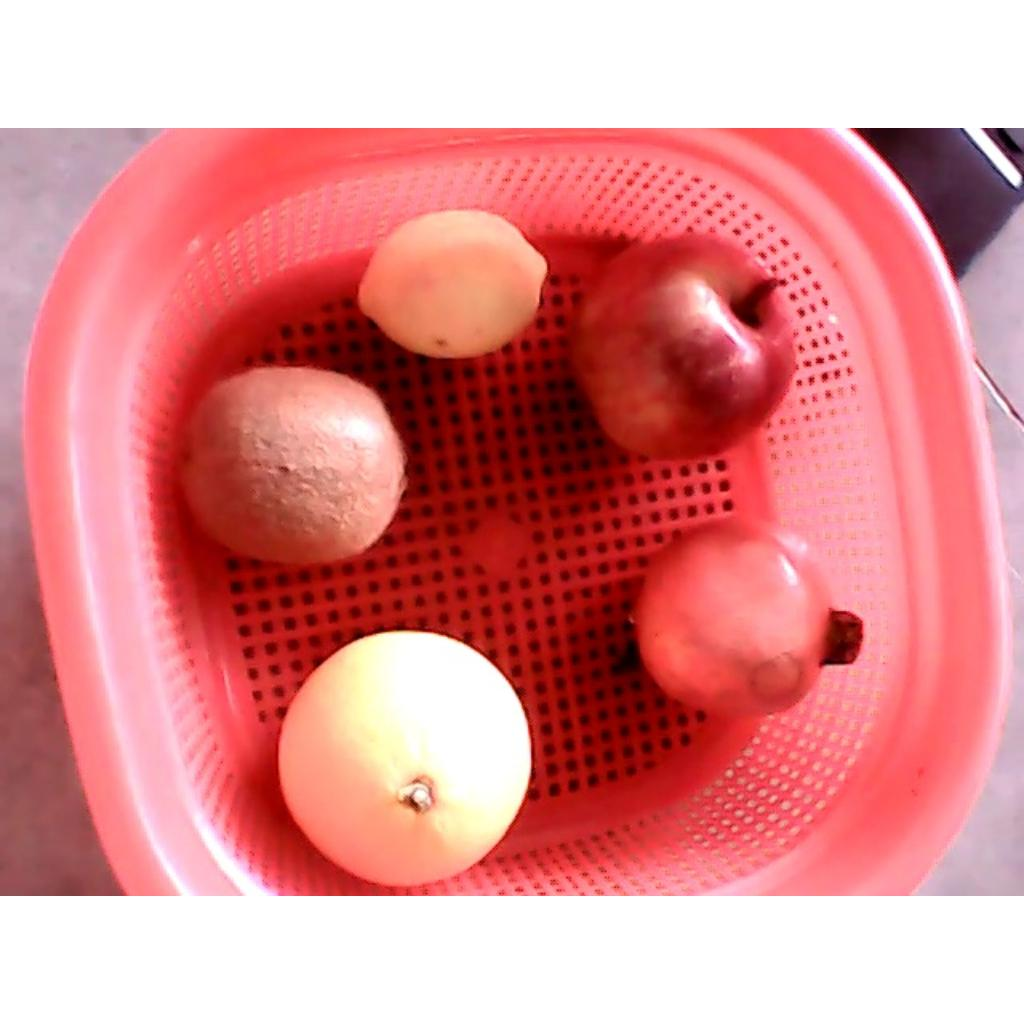apple: (565, 230, 797, 460)
kiwi: (173, 367, 408, 566)
lemon: (356, 210, 551, 357)
orange: (275, 627, 532, 886)
pomegranate: (631, 516, 864, 721)
